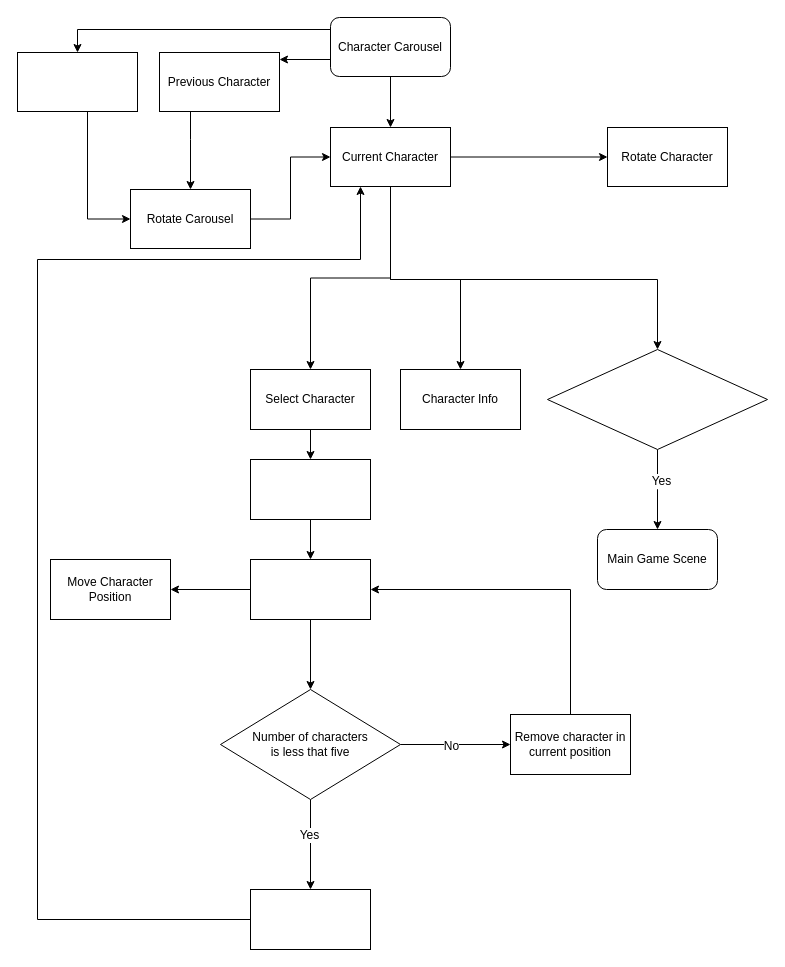
Some shapes in this 785 by 967 pixel diagram are drawn without their labels. Here are the shapes that lost their labels. From the top down, the centre of each, then its label:
At point 77,82: "Next Character".
At point 657,399: "Placed characters equals five".
At point 310,489: "Camera to map".
At point 310,589: "Create character on map".
At point 310,919: "Confirm Character Position".
